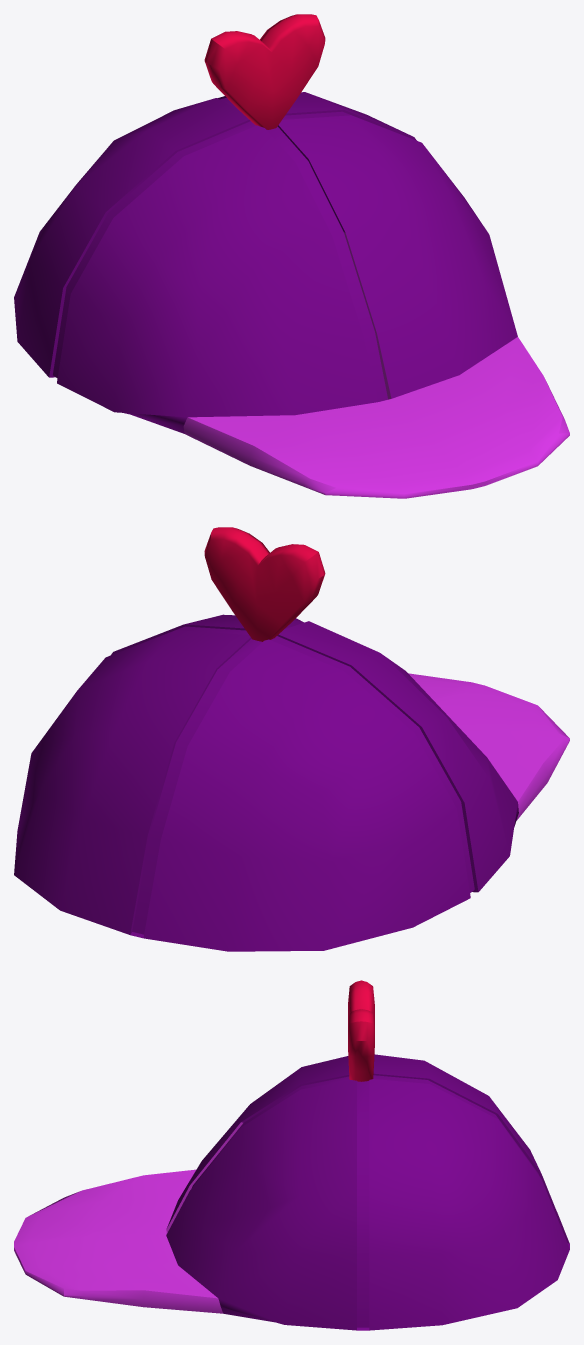
The model's file is baseball cap.fbx.
3 views of the same model, one above another, from view 1: azimuth 30°, elevation 25°; view 2: azimuth 150°, elevation 25°; view 3: azimuth 270°, elevation 25° (orthographic). The views are drawn at different scales.
Parts seen in each view (by area): view 1: pPlane4; view 2: pPlane4; view 3: pPlane4.
Part boxes in pixels (<box>): pPlane4: <box>14,14,569,498</box>; pPlane4: <box>14,527,569,951</box>; pPlane4: <box>14,980,569,1330</box>.
Size of the model in its own units: 341 by 238 by 479.
